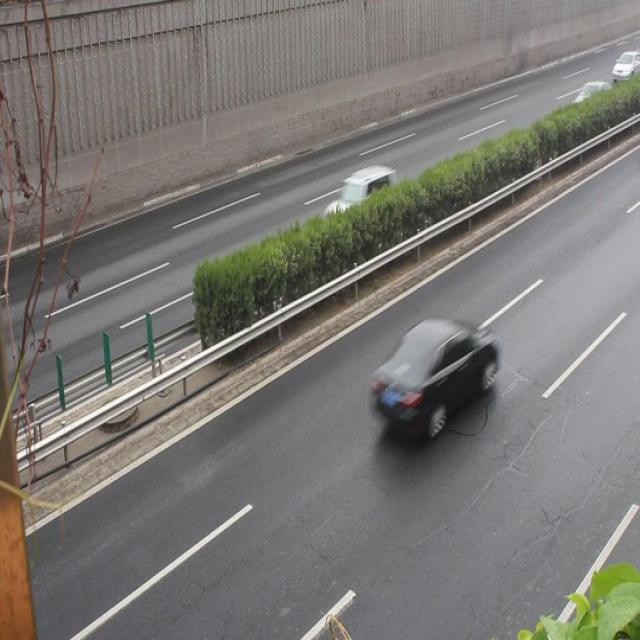car: (369, 315, 498, 436), (319, 165, 396, 238), (568, 80, 616, 132)
